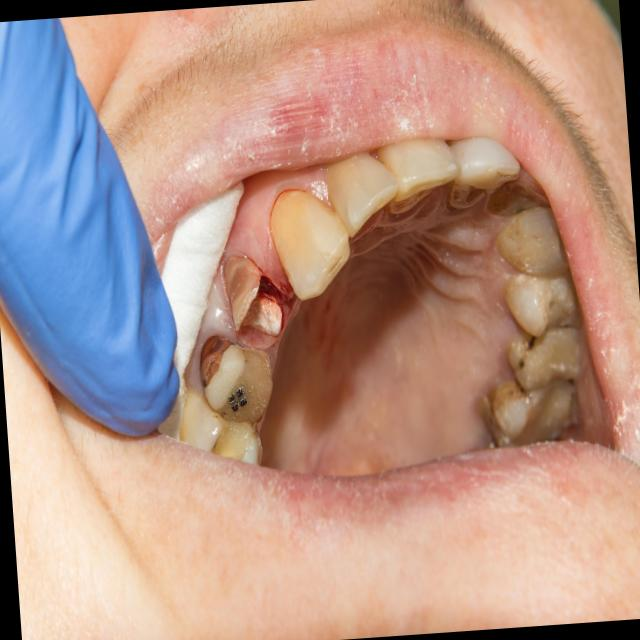Caries: (528, 336, 537, 350), (519, 361, 524, 368), (569, 379, 573, 383), (520, 388, 523, 391)
Cavity: (237, 275, 283, 347), (200, 335, 235, 387)
Tooth: (270, 188, 349, 299), (476, 379, 579, 447), (199, 335, 273, 423), (377, 138, 461, 213), (327, 151, 398, 238), (224, 255, 283, 348), (449, 136, 519, 208), (504, 326, 579, 392), (498, 206, 568, 276), (504, 270, 579, 335), (486, 169, 551, 218)
